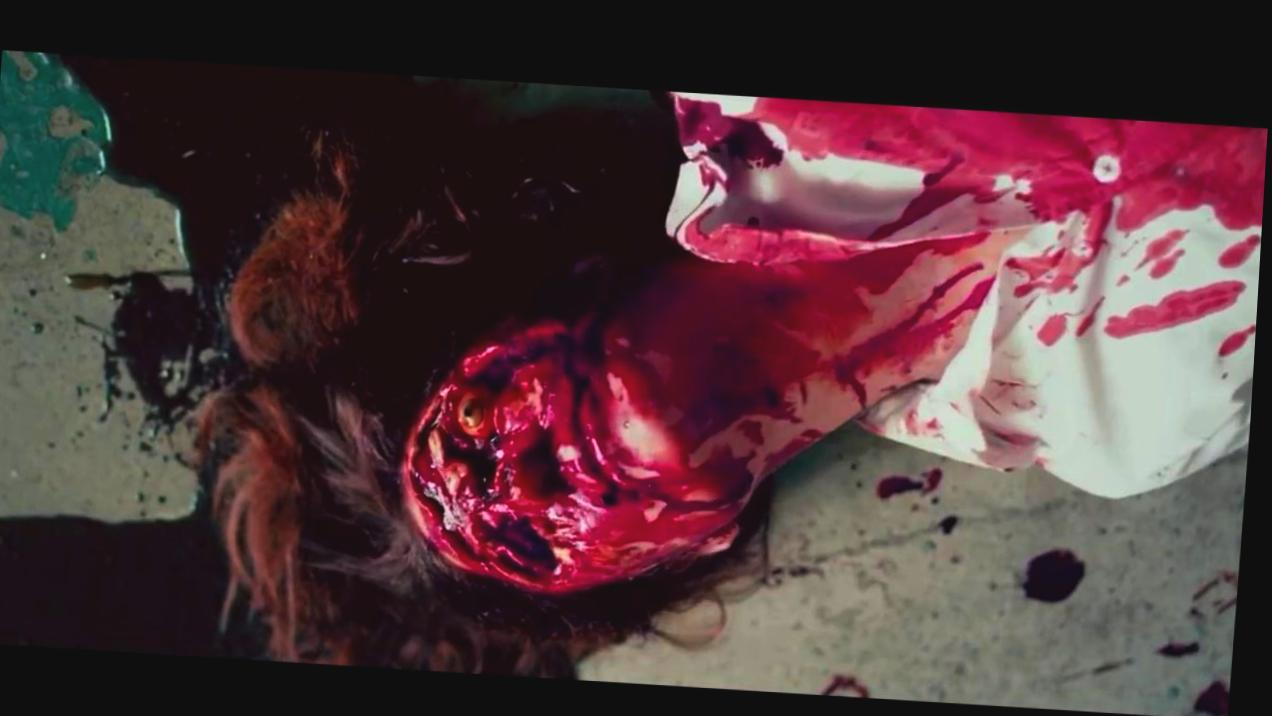Fire: (399, 87, 1269, 587), (62, 53, 416, 424), (0, 508, 284, 658), (1153, 557, 1245, 710), (1019, 533, 1098, 597), (876, 457, 953, 492), (824, 665, 884, 693)
